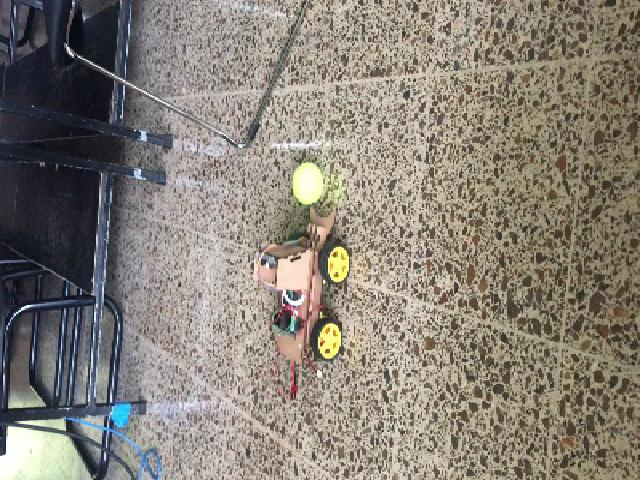Ball: (291, 162, 323, 204)
Robot: (250, 205, 350, 364)
